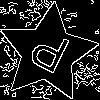P: (23, 28, 72, 83)
